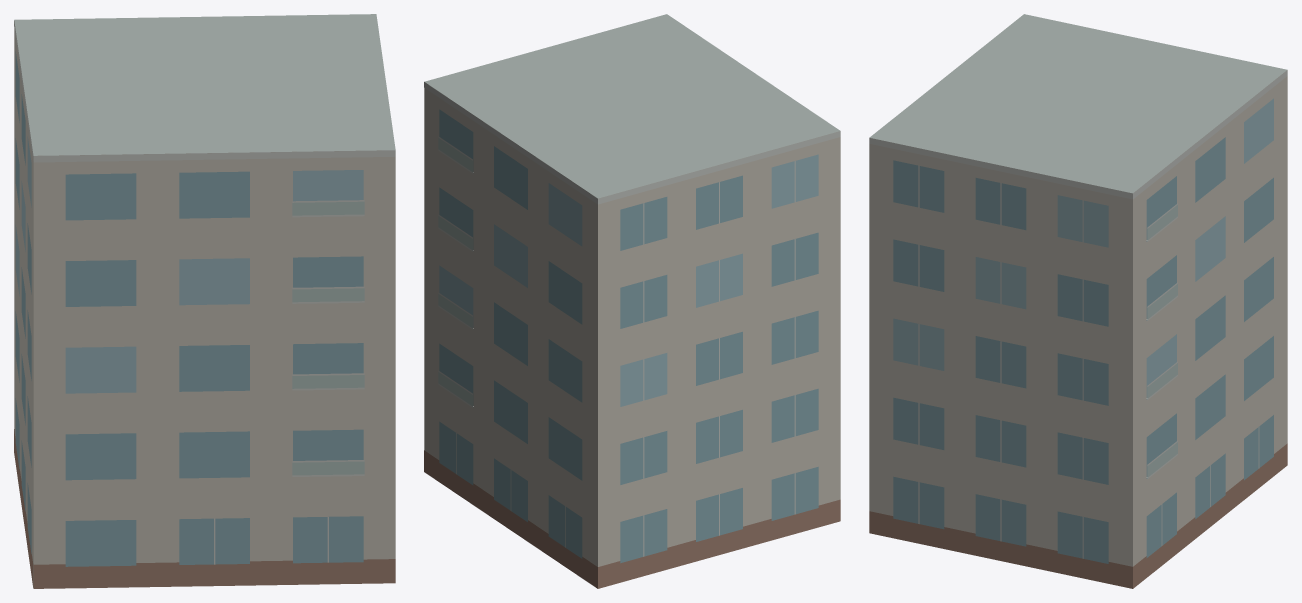
The model's file is survey-upis-32886053.glb.
The picture shows the model from 3 angles, left to right: view 1: azimuth 30°, elevation 25°; view 2: azimuth 150°, elevation 25°; view 3: azimuth 270°, elevation 25°; orthographic projection. The views are drawn at different scales.
Parts seen in each view (by area): view 1: survey-upis-32886053.tmp; view 2: survey-upis-32886053.tmp; view 3: survey-upis-32886053.tmp.
Part boxes in pixels (<box>): survey-upis-32886053.tmp: <box>14,14,395,588</box>; survey-upis-32886053.tmp: <box>424,14,840,588</box>; survey-upis-32886053.tmp: <box>869,14,1287,588</box>.
Bounding box in the file's own units: 15.48 × 15.9 × 15.25.
